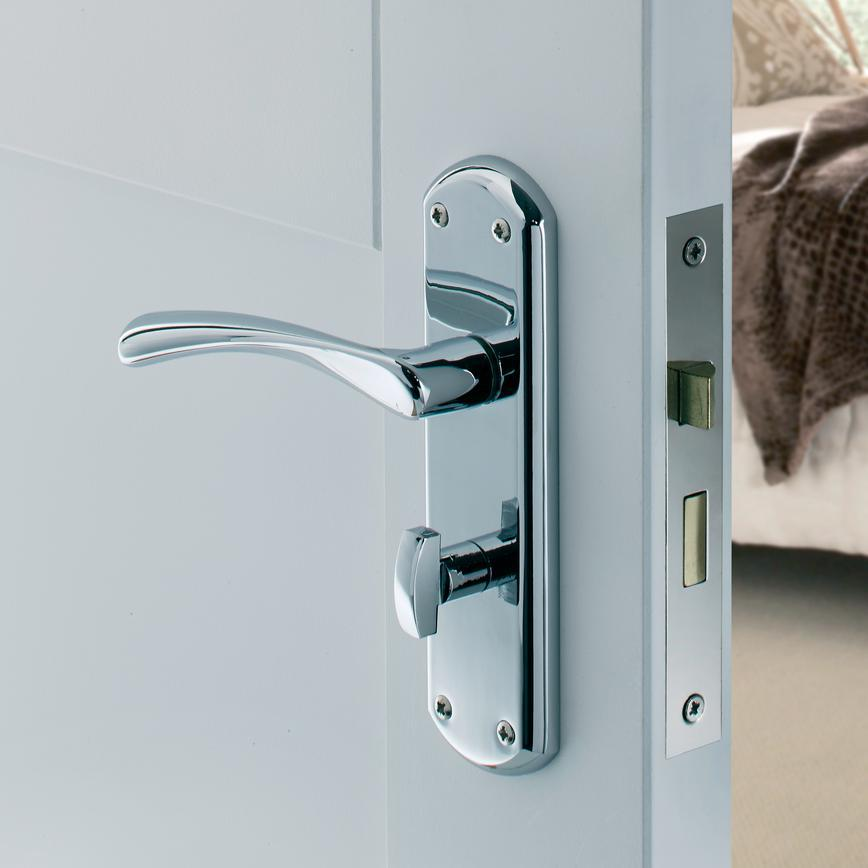doorhandle: (59, 254, 560, 439)
